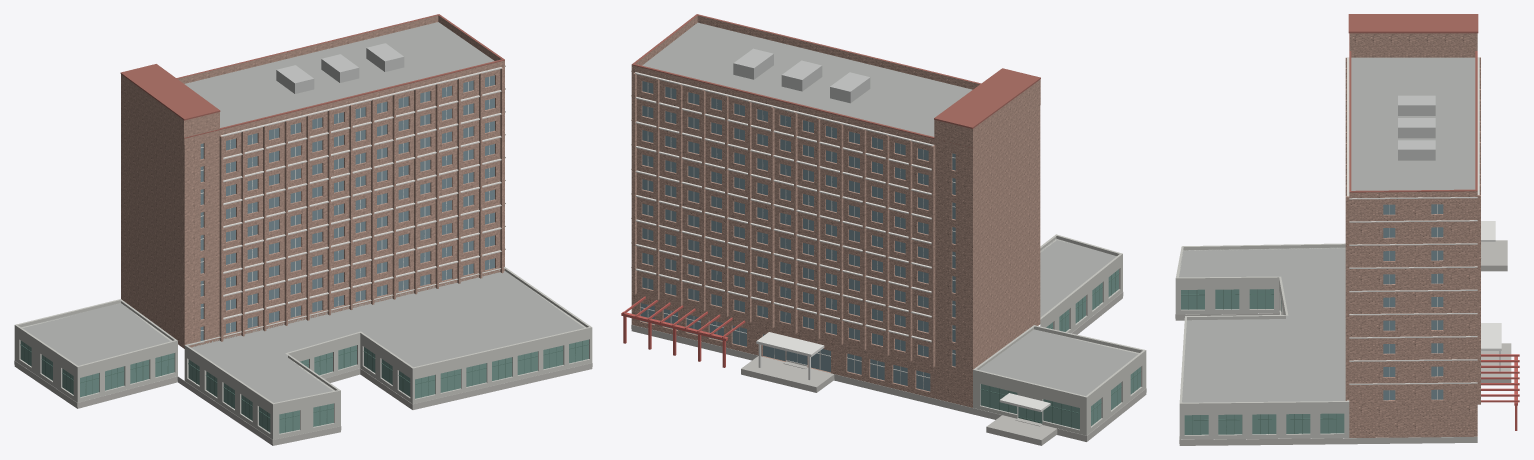
3 renders of one model, left to right at view 1: azimuth 30°, elevation 25°; view 2: azimuth 150°, elevation 25°; view 3: azimuth 270°, elevation 25°, orthographic. The views are drawn at different scales.
Visible parts, largest first — view 1: D4 salmon brick, D4 grey roof, D4 podium grey stone, D4 blue grey glass, D4 podium green glass, D4 white floor bands, D4 granite plinth and paving, D4 maroon coping, D4 rooftop plant grey, D4 podium dark green frames, D4 white window frames; view 2: D4 salmon brick, D4 grey roof, D4 blue grey glass, D4 podium grey stone, D4 white floor bands, D4 granite plinth and paving, D4 maroon coping, D4 podium green glass, D4 rooftop plant grey, D4 white window frames, D4 red steel pergola pole, D4 white entrance canopy (+1 smaller); view 3: D4 grey roof, D4 salmon brick, D4 podium grey stone, D4 podium green glass, D4 granite plinth and paving, D4 maroon coping, D4 white floor bands, D4 blue grey glass, D4 rooftop plant grey, D4 red steel pergola pole, D4 white entrance canopy, D4 podium dark green frames.
Part boxes in pixels (x1,y1,x2,y2): D4 salmon brick: (121, 15, 504, 348); D4 grey roof: (22, 22, 584, 402); D4 podium grey stone: (14, 267, 592, 439); D4 blue grey glass: (200, 75, 494, 340); D4 podium green glass: (20, 339, 588, 433); D4 white floor bands: (221, 65, 505, 319); D4 granite plinth and paving: (14, 360, 592, 445); D4 maroon coping: (120, 14, 504, 138); D4 rooftop plant grey: (276, 43, 404, 93); D4 podium dark green frames: (20, 341, 589, 432); D4 white window frames: (200, 76, 489, 332); D4 salmon brick: (631, 15, 1040, 407); D4 grey roof: (642, 22, 1138, 395); D4 blue grey glass: (640, 81, 955, 391); D4 podium grey stone: (973, 234, 1146, 435); D4 white floor bands: (631, 70, 933, 342); D4 granite plinth and paving: (631, 292, 1146, 445); D4 maroon coping: (631, 14, 1040, 147); D4 podium green glass: (980, 269, 1140, 429); D4 rooftop plant grey: (733, 48, 870, 103); D4 white window frames: (640, 82, 955, 390); D4 red steel pergola pole: (621, 296, 745, 367); D4 white entrance canopy: (756, 332, 1050, 411); D4 grey roof: (1179, 57, 1475, 402); D4 salmon brick: (1345, 33, 1480, 437); D4 podium grey stone: (1175, 243, 1349, 439); D4 podium green glass: (1181, 289, 1344, 434); D4 granite plinth and paving: (1175, 240, 1511, 445); D4 maroon coping: (1348, 14, 1478, 192); D4 white floor bands: (1347, 57, 1479, 384); D4 blue grey glass: (1383, 204, 1443, 400); D4 rooftop plant grey: (1398, 95, 1435, 160); D4 red steel pergola pole: (1481, 354, 1519, 430); D4 white entrance canopy: (1481, 221, 1501, 371); D4 podium dark green frames: (1181, 289, 1344, 434).
Size of the model in its own units: 67.07 by 39.8 by 45.75.
Materials: 13 (1 with a texture image).
